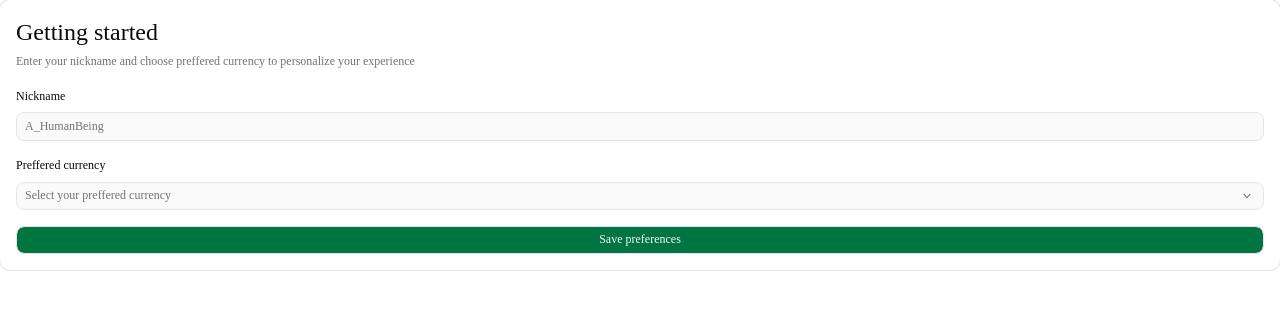
Test: CreateUserForm › should submit the picked currency as its code
The image size is (1280, 329).
Press the mouse on the dropdown: coordinates (626, 196) [17,182,1235,210]
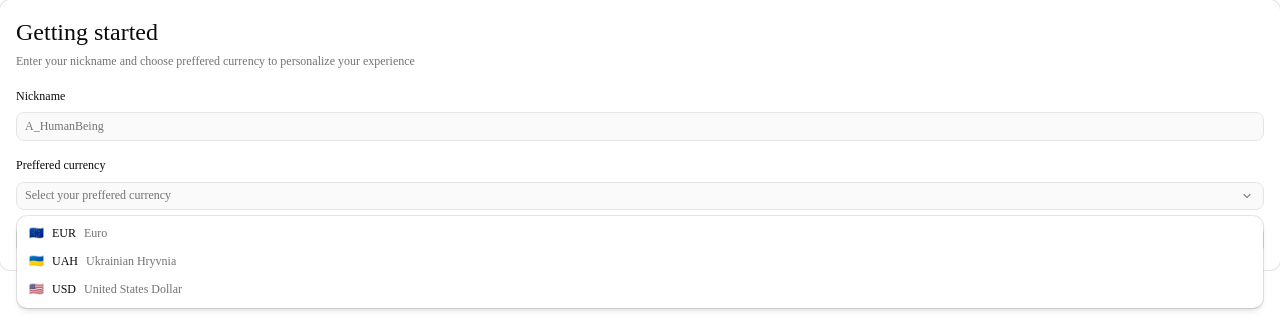
Result: the list is shown at [29,226,182,296]
Click the option "🇺🇦 UAH Ukrainian Hryvnia": coordinates (103, 261) [29,254,176,268]
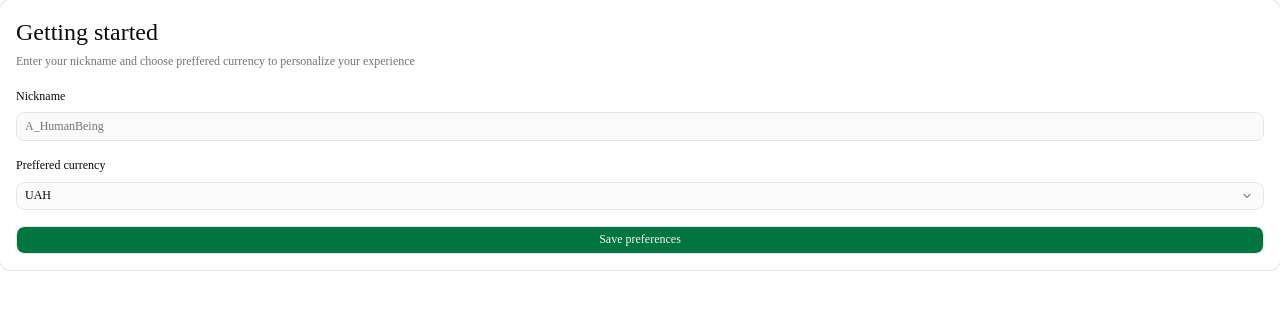
Result: the dropdown holds "UAH" at [17,182,1235,210]
